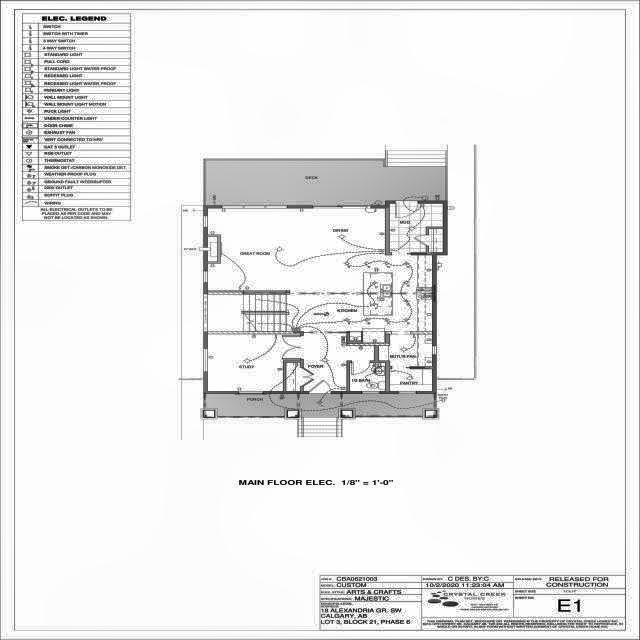room: (208, 334, 300, 391), (389, 204, 443, 252), (350, 363, 385, 391), (390, 369, 432, 391)
